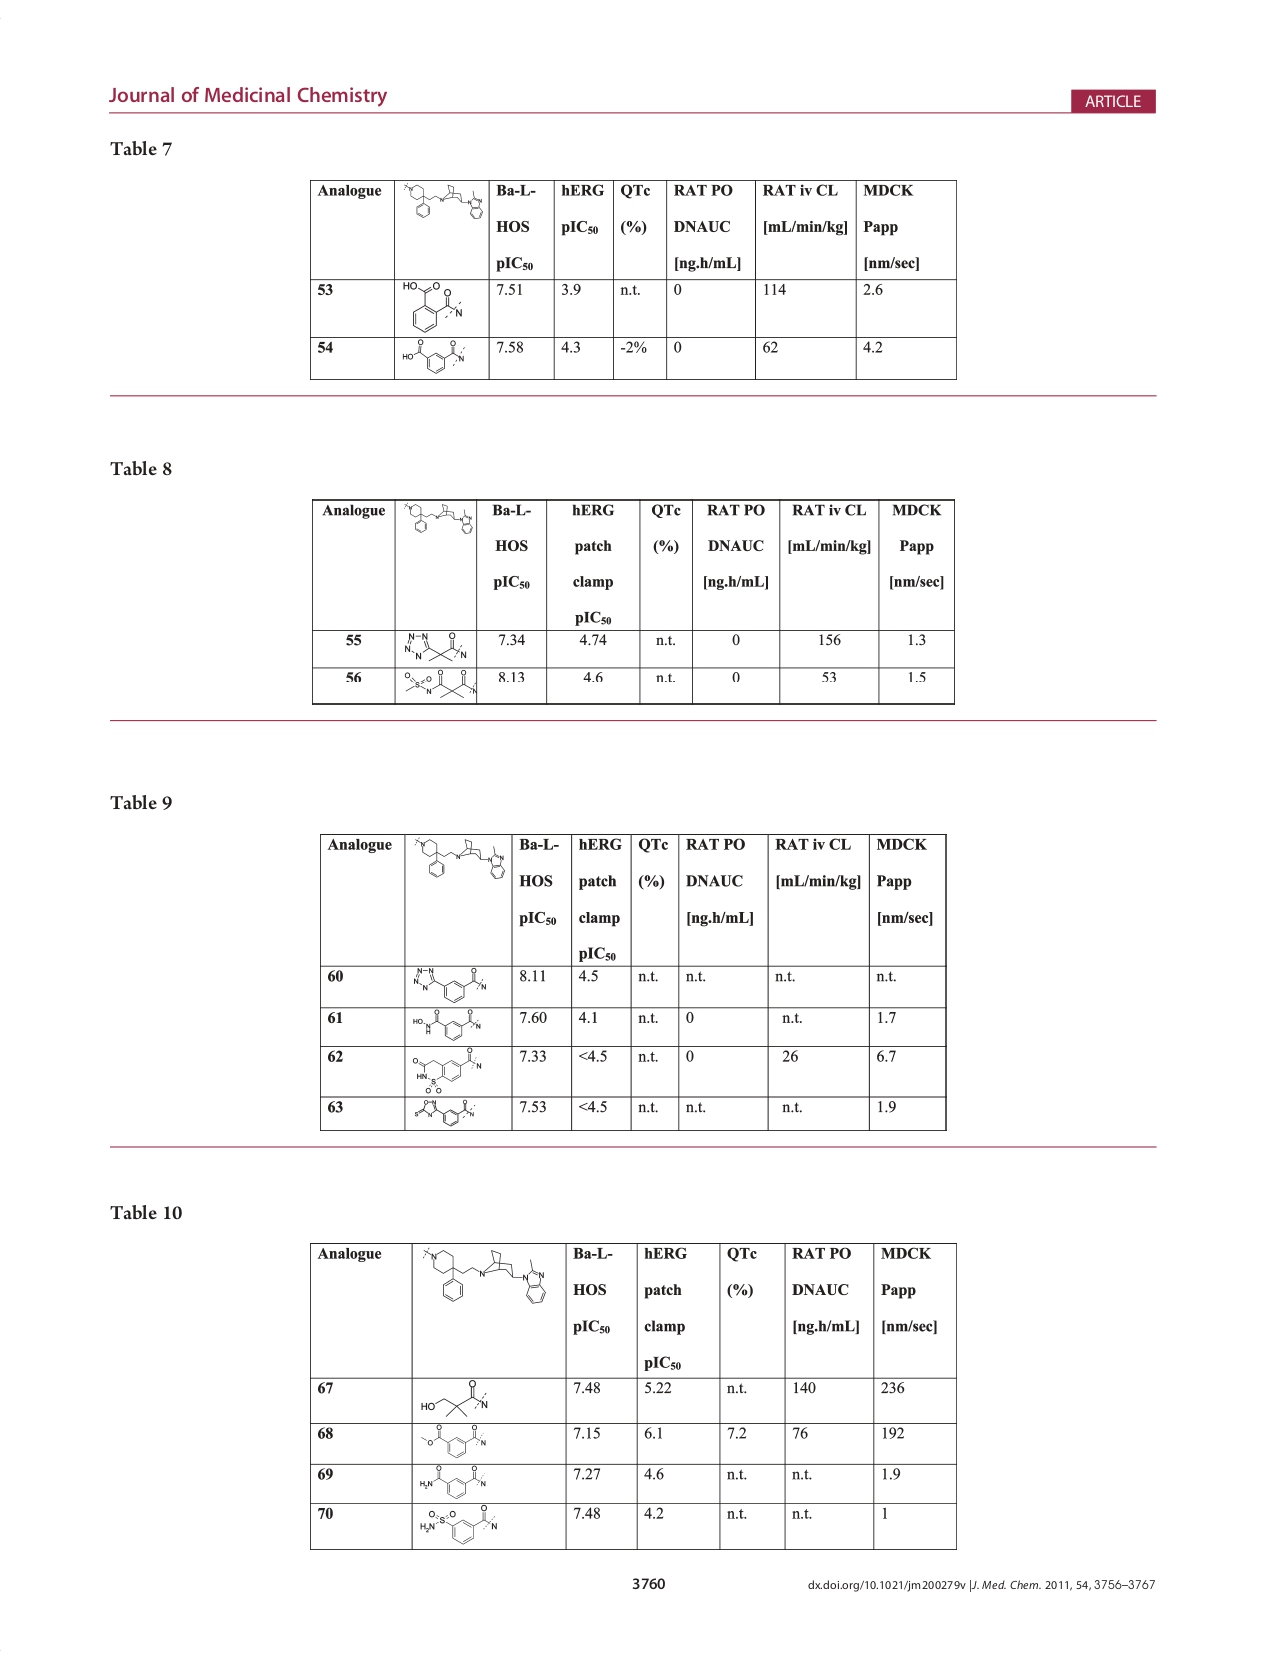exist_molecular: (420, 1246, 547, 1307), (412, 836, 507, 883), (398, 278, 465, 332), (400, 180, 484, 221), (418, 1504, 499, 1547), (411, 1047, 481, 1094), (411, 967, 487, 1004), (398, 501, 475, 537), (419, 1379, 489, 1418), (411, 1007, 481, 1043), (419, 1464, 488, 1500), (400, 336, 467, 374), (402, 668, 477, 700), (420, 1426, 488, 1460), (402, 632, 467, 664), (414, 1098, 477, 1128)
